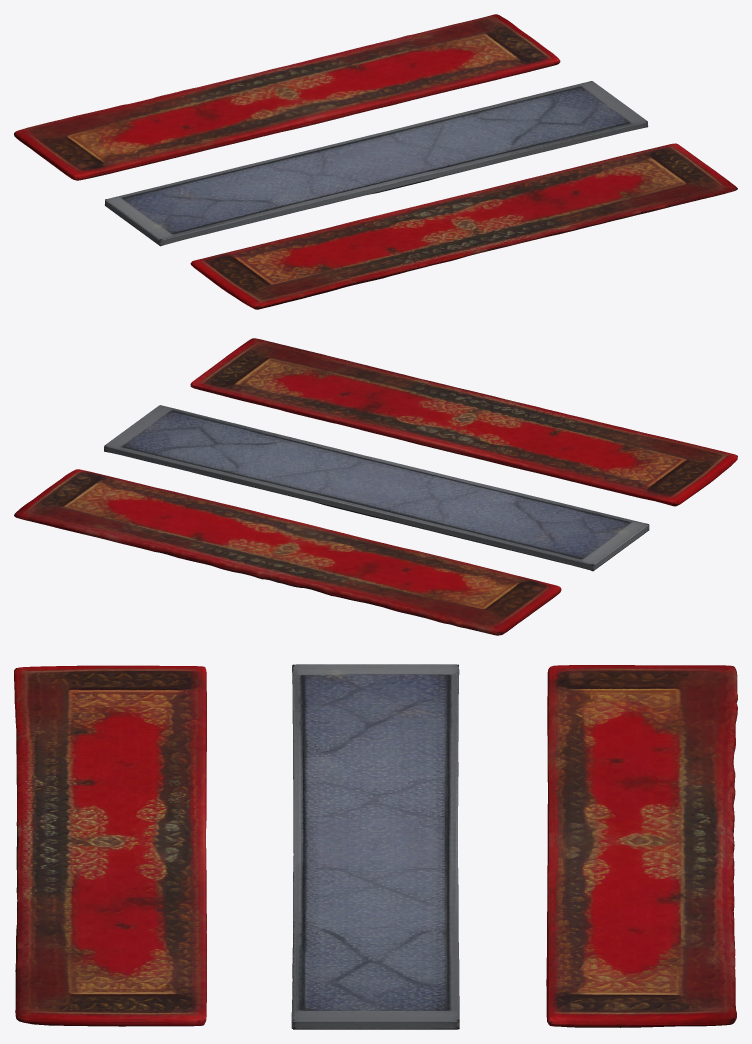
3 views of the same model, one above another, from view 1: azimuth 30°, elevation 25°; view 2: azimuth 150°, elevation 25°; view 3: azimuth 270°, elevation 25° (orthographic). The views are drawn at different scales.
Visible parts, largest first — view 1: geometry_0; view 2: geometry_0; view 3: geometry_0.
Part boxes in pixels (x1,y1,x2,y2): geometry_0: (14, 14, 737, 309); geometry_0: (14, 338, 737, 635); geometry_0: (14, 664, 737, 1029).
Size of the model in its own units: 1 by 0.0158 by 0.8583.
Materials: 1 (1 with a texture image).
